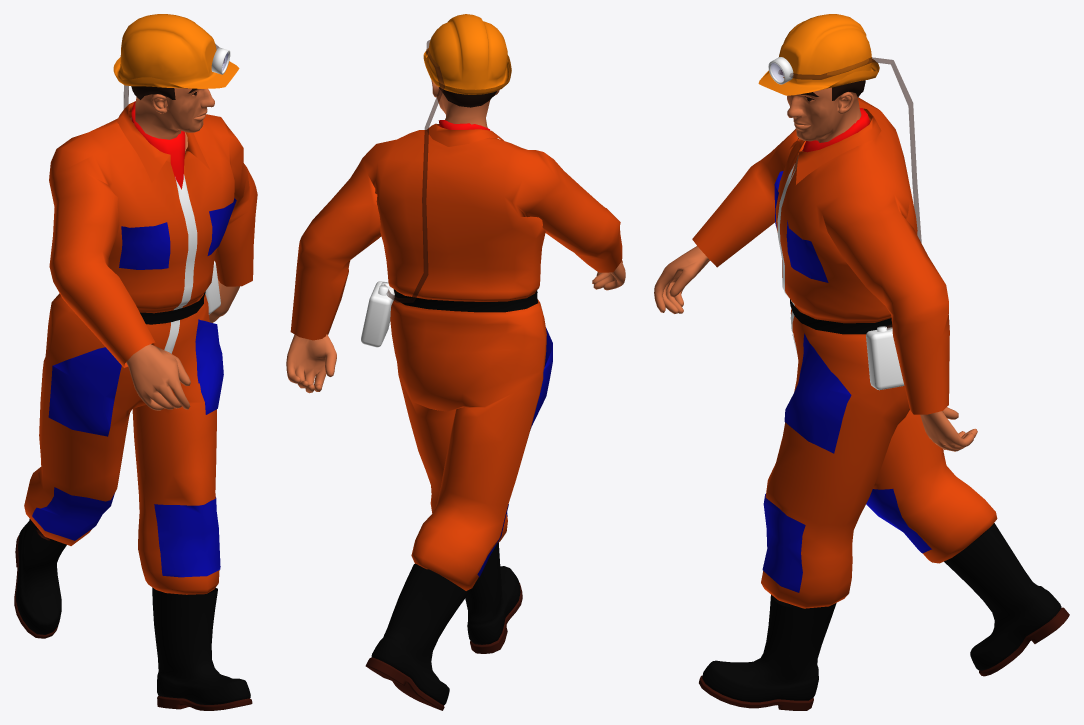
Rendered from Worker.FBX.
3 renders of one model, left to right at view 1: azimuth 30°, elevation 25°; view 2: azimuth 150°, elevation 25°; view 3: azimuth 270°, elevation 25°, orthographic. The views are drawn at different scales.
Visible parts, largest first — view 1: Group_001; view 2: Group_001; view 3: Group_001.
Boxes of the visible parts, bbox=[...] form: Group_001: bbox=[14, 14, 257, 710]; Group_001: bbox=[286, 14, 625, 710]; Group_001: bbox=[654, 14, 1069, 710].
Size of the model in its own units: 1242 by 3013 by 1644.
